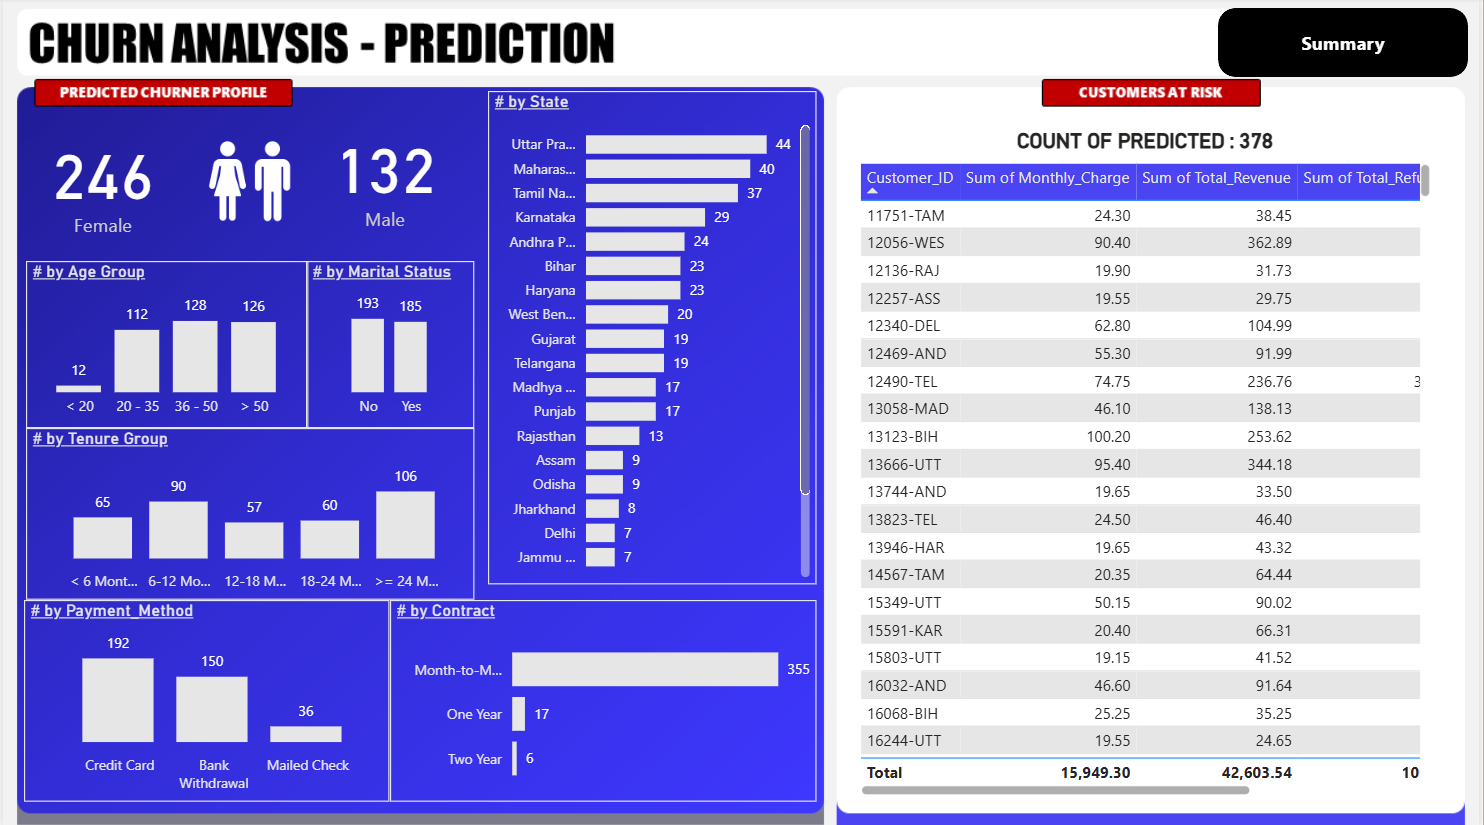

The dashboard page shown, as its layout file describes it:
{"tool":"powerbi","page":{"name":"Churn Predicition","canvas":[1280,720],"ordinal":2},"visuals":[{"type":"tableEx","fields":{"Values":["Prediction_D.Customer_ID","Sum(Prediction_D.Monthly_Charge)","Sum(Prediction_D.Total_Revenue)","Sum(Prediction_D.Total_Refunds)","Sum(Prediction_D.Number_of_Referrals)"]},"box":[738.2,138.8,504.9,557.8],"z":0},{"type":"card","fields":{"Values":["tbl_Measures.Title Predicted Churner"]},"box":[738.2,109.3,504.9,29.5],"z":1000},{"type":"card","fields":{"Values":["tbl_Measures.Count Predicted Churner"]},"box":[15.6,99.8,142.3,118],"z":2000},{"type":"card","fields":{"Values":["tbl_Measures.Count Predicted Churner"]},"box":[262.8,99.8,137.1,107.6],"z":3000},{"type":"clusteredColumnChart","fields":{"Category":["mapping_AgeGrp.Age Group"],"Y":["CountNonNull(Prediction_D.Customer_ID)"]},"box":[20,228.1,244.6,144.9],"z":4000},{"type":"clusteredColumnChart","fields":{"Category":["Prediction_D.Married"],"Y":["CountNonNull(Prediction_D.Customer_ID)"]},"box":[262.8,228.1,145.7,144.9],"z":5000},{"type":"clusteredColumnChart","fields":{"Y":["CountNonNull(Prediction_D.Customer_ID)"],"Category":["mapping_TenureGrp.Tenure Group "]},"box":[20,373,388.6,149.2],"z":6000},{"type":"clusteredColumnChart","fields":{"Y":["CountNonNull(Prediction_D.Customer_ID)"],"Category":["Prediction_D.Payment_Method"]},"box":[18.2,522.2,317.5,175.2],"z":7000},{"type":"clusteredBarChart","fields":{"Category":["Prediction_D.Contract"],"Y":["CountNonNull(Prediction_D.Customer_ID)"]},"box":[335.7,522.2,370.4,175.2],"z":8000},{"type":"clusteredBarChart","fields":{"Category":["Prediction_D.State"],"Y":["CountNonNull(Prediction_D.Customer_ID)"]},"box":[420.7,80.7,285.4,427.7],"z":9000},{"type":"image","box":[157.9,109.3,112.8,98],"z":10000},{"type":"shape","box":[1054,8.7,216.9,59.9],"z":11000}]}

Visuals, with their boxes in screenshot pixels (x1, y1, x2, y2), scaled from the page's 1280x720 canvas onto the 1484x825 screenshot:
tableEx - Prediction_D.Customer_ID x Sum(Prediction_D.Monthly_Charge): [856,159,1441,798]
card - tbl_Measures.Title Predicted Churner: [856,125,1441,159]
card - tbl_Measures.Count Predicted Churner: [18,114,183,250]
card - tbl_Measures.Count Predicted Churner: [305,114,464,238]
clusteredColumnChart - mapping_AgeGrp.Age Group x CountNonNull(Prediction_D.Customer_ID): [23,261,307,427]
clusteredColumnChart - Prediction_D.Married x CountNonNull(Prediction_D.Customer_ID): [305,261,474,427]
clusteredColumnChart - CountNonNull(Prediction_D.Customer_ID) x mapping_TenureGrp.Tenure Group : [23,427,474,598]
clusteredColumnChart - CountNonNull(Prediction_D.Customer_ID) x Prediction_D.Payment_Method: [21,598,389,799]
clusteredBarChart - Prediction_D.Contract x CountNonNull(Prediction_D.Customer_ID): [389,598,819,799]
clusteredBarChart - Prediction_D.State x CountNonNull(Prediction_D.Customer_ID): [488,92,819,583]
image: [183,125,314,238]
shape: [1222,10,1473,79]
